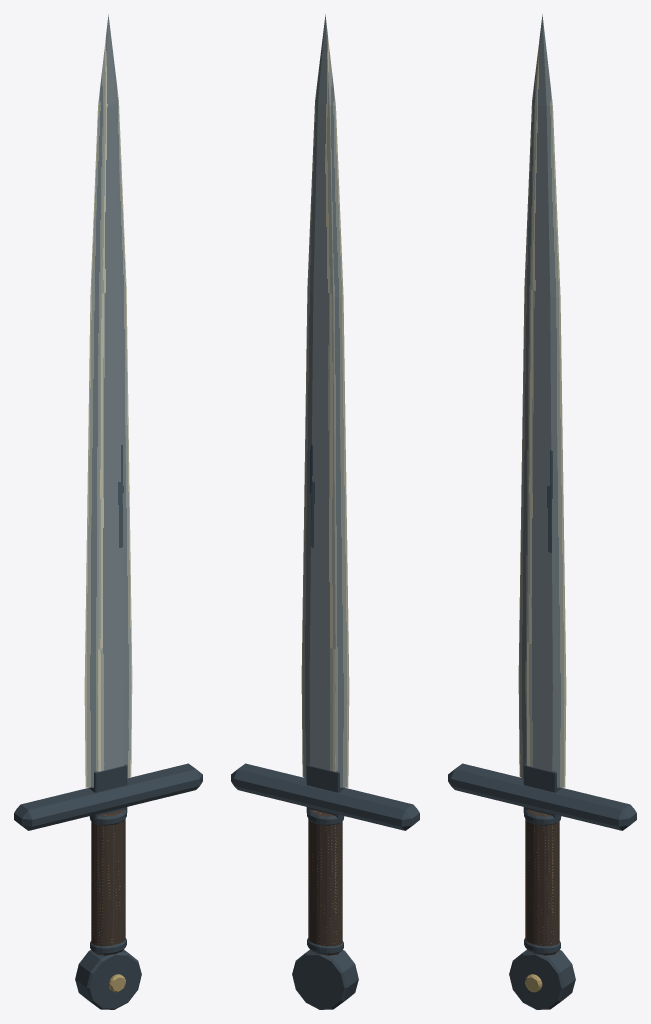
Rendered from sword-quiet.glb.
The picture shows the model from 3 angles, left to right: view 1: azimuth 30°, elevation 25°; view 2: azimuth 150°, elevation 25°; view 3: azimuth 330°, elevation 25°; orthographic projection.
Parts seen in each view (by area): view 1: sword-quiet runtime mesh; view 2: sword-quiet runtime mesh; view 3: sword-quiet runtime mesh.
Boxes of the visible parts, box(x1,y1,x2,y2) form: sword-quiet runtime mesh: box(14, 14, 202, 1009); sword-quiet runtime mesh: box(231, 14, 419, 1009); sword-quiet runtime mesh: box(448, 14, 636, 1009).
Size of the model in its own units: 0.19 by 0.994 by 0.033.
4 materials, 3 textured.
